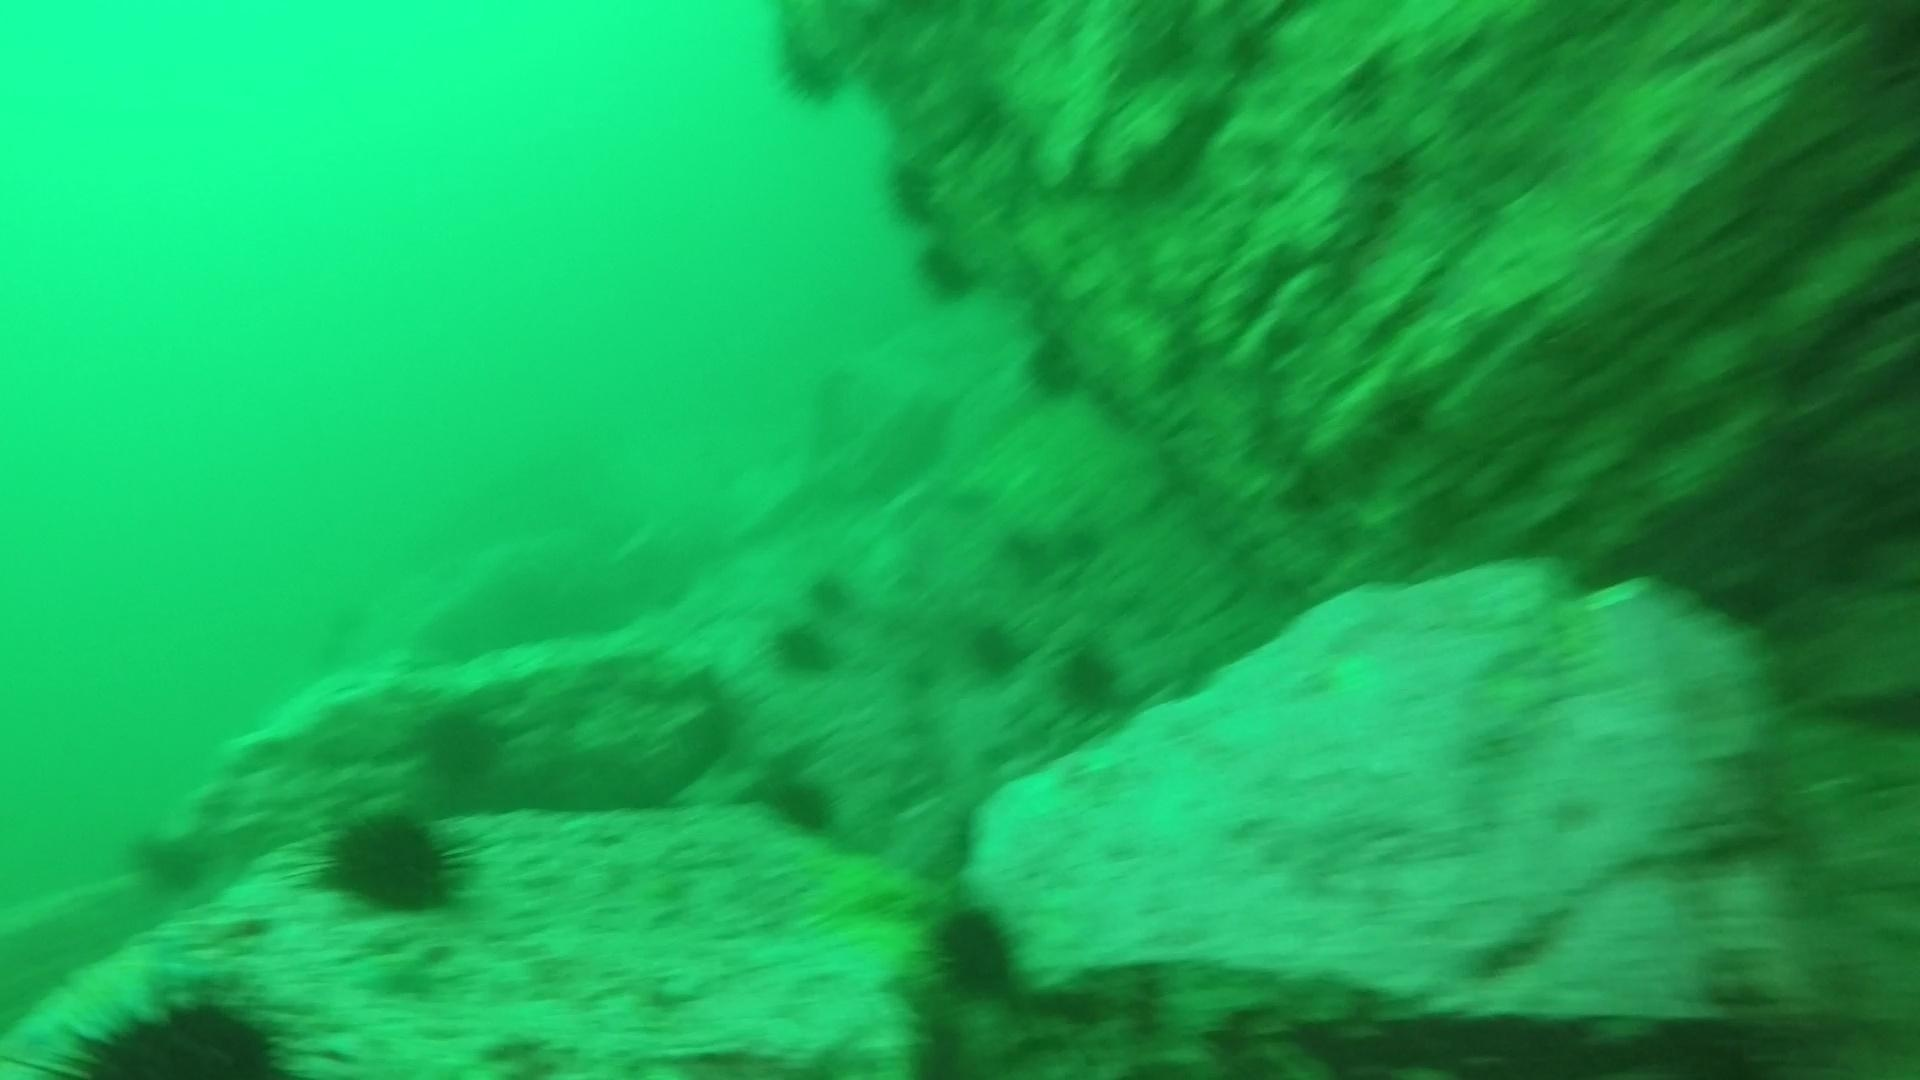echinus: (51, 976, 303, 1077), (309, 800, 477, 922), (920, 897, 1026, 1004), (410, 698, 512, 791), (749, 760, 843, 843), (127, 822, 220, 899), (1047, 636, 1131, 721), (767, 37, 852, 113), (877, 149, 949, 233), (909, 232, 986, 309), (1023, 330, 1101, 406), (765, 615, 844, 680), (959, 615, 1031, 684), (1056, 518, 1121, 578), (1002, 526, 1067, 585), (796, 564, 861, 622)
